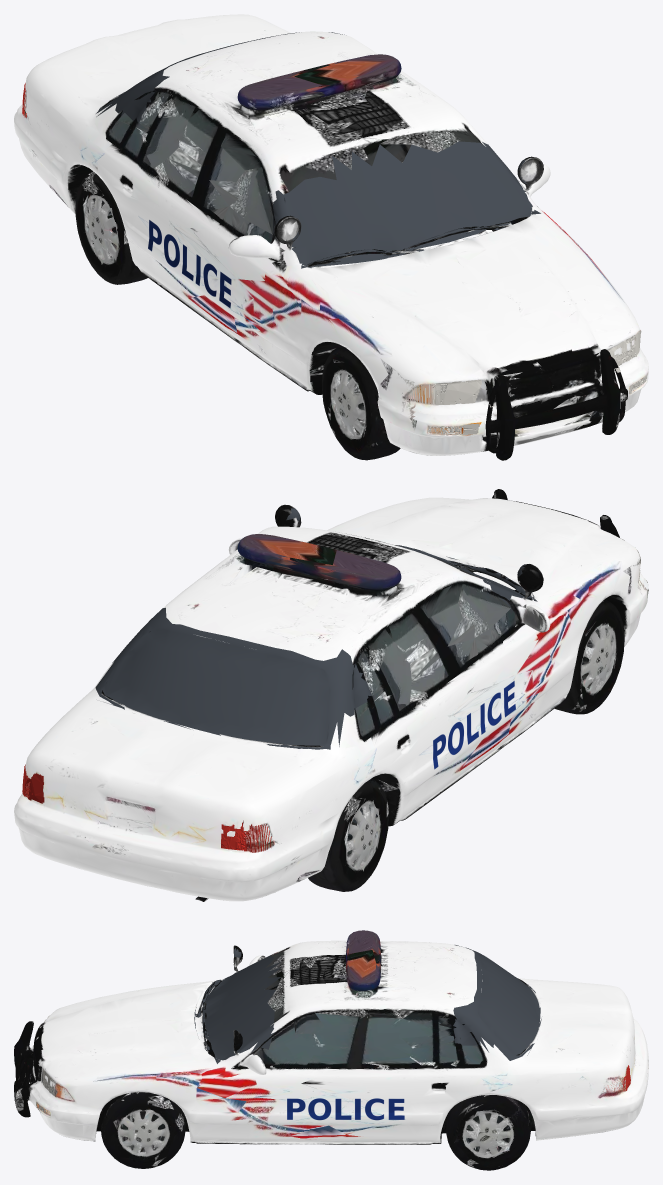
Rendered from pol-belasco.glb.
3 renders of one model, top to bottom at view 1: azimuth 30°, elevation 25°; view 2: azimuth 150°, elevation 25°; view 3: azimuth 270°, elevation 25°, orthographic. The views are drawn at different scales.
Parts seen in each view (by area): view 1: pol-belasco, siren_L, siren_R, lamp_head_R, police_decal_R, lamp_head_L; view 2: pol-belasco, siren_L, siren_R, police_decal_R, lamp_tail_R; view 3: pol-belasco, police_decal_L, siren_R, siren_L.
Boxes of the visible parts, box(x1,y1,x2,y2) form: pol-belasco: box(14, 14, 648, 460); siren_L: box(237, 70, 341, 111); siren_R: box(295, 54, 401, 96); lamp_head_R: box(404, 379, 493, 435); police_decal_R: box(148, 220, 231, 308); lamp_head_L: box(607, 330, 647, 393); pol-belasco: box(14, 489, 648, 901); siren_L: box(310, 550, 401, 591); siren_R: box(237, 534, 331, 576); police_decal_R: box(433, 681, 515, 769); lamp_tail_R: box(221, 822, 274, 852); pol-belasco: box(14, 940, 648, 1170); police_decal_L: box(287, 1098, 404, 1120); siren_R: box(346, 950, 380, 992); siren_L: box(346, 930, 380, 961).
Size of the model in its own units: 2.25 by 1.61 by 5.4.
Materials: 5 (2 with a texture image).
